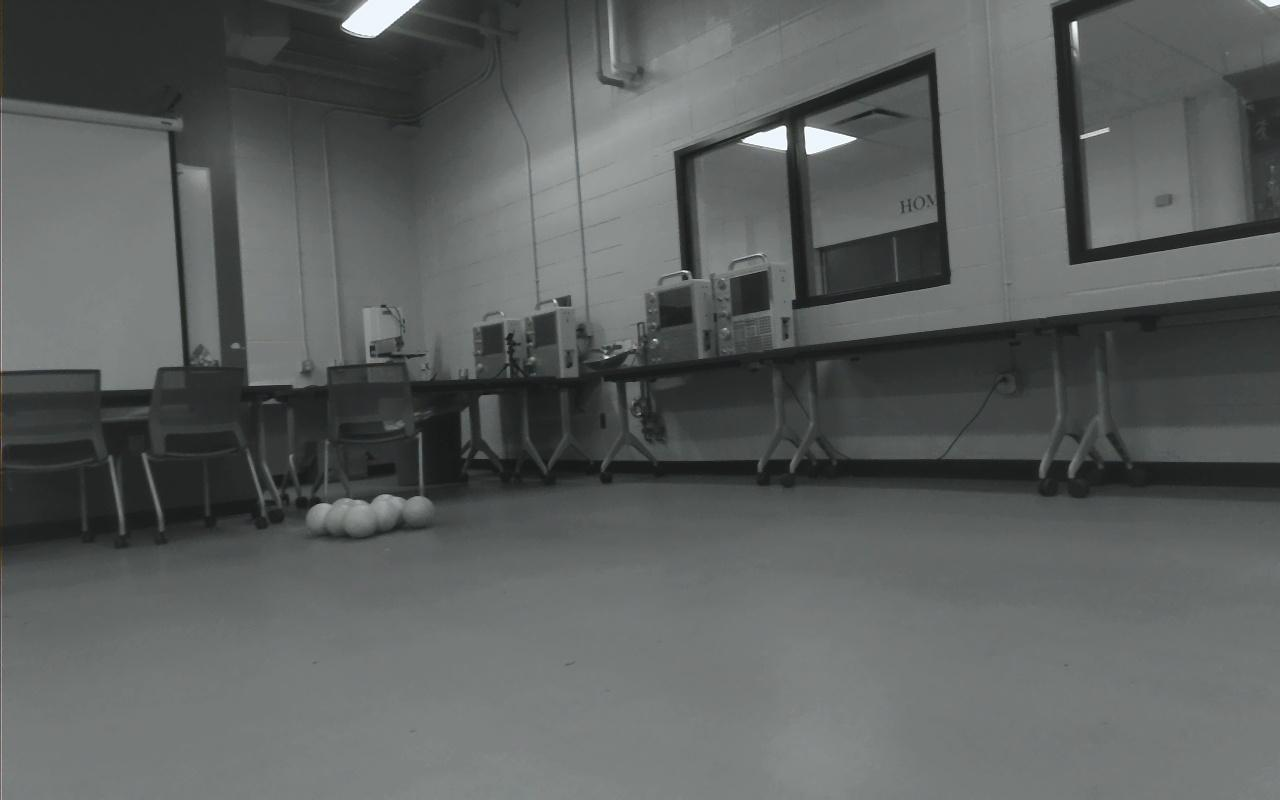Fuel: (343, 504, 376, 538), (305, 502, 338, 536), (366, 498, 398, 533), (324, 504, 357, 537), (402, 495, 434, 529), (370, 493, 402, 526), (381, 495, 411, 528), (332, 496, 361, 528), (346, 498, 375, 530)
